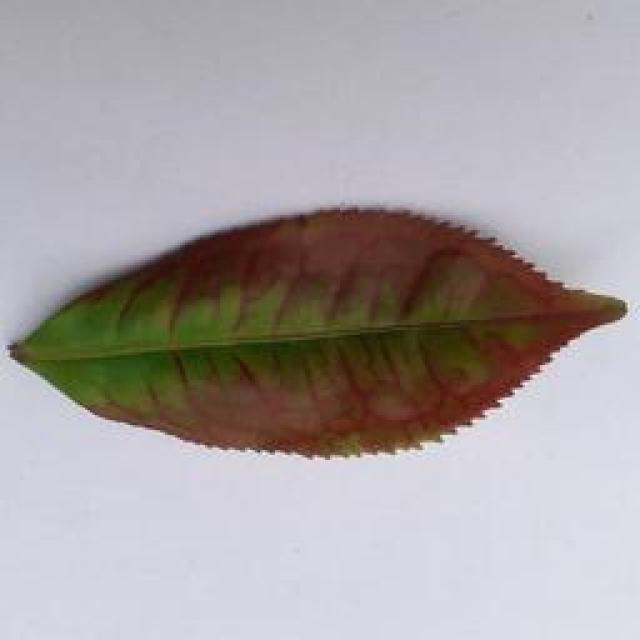Red Leaf Spot: (0, 198, 634, 482)
